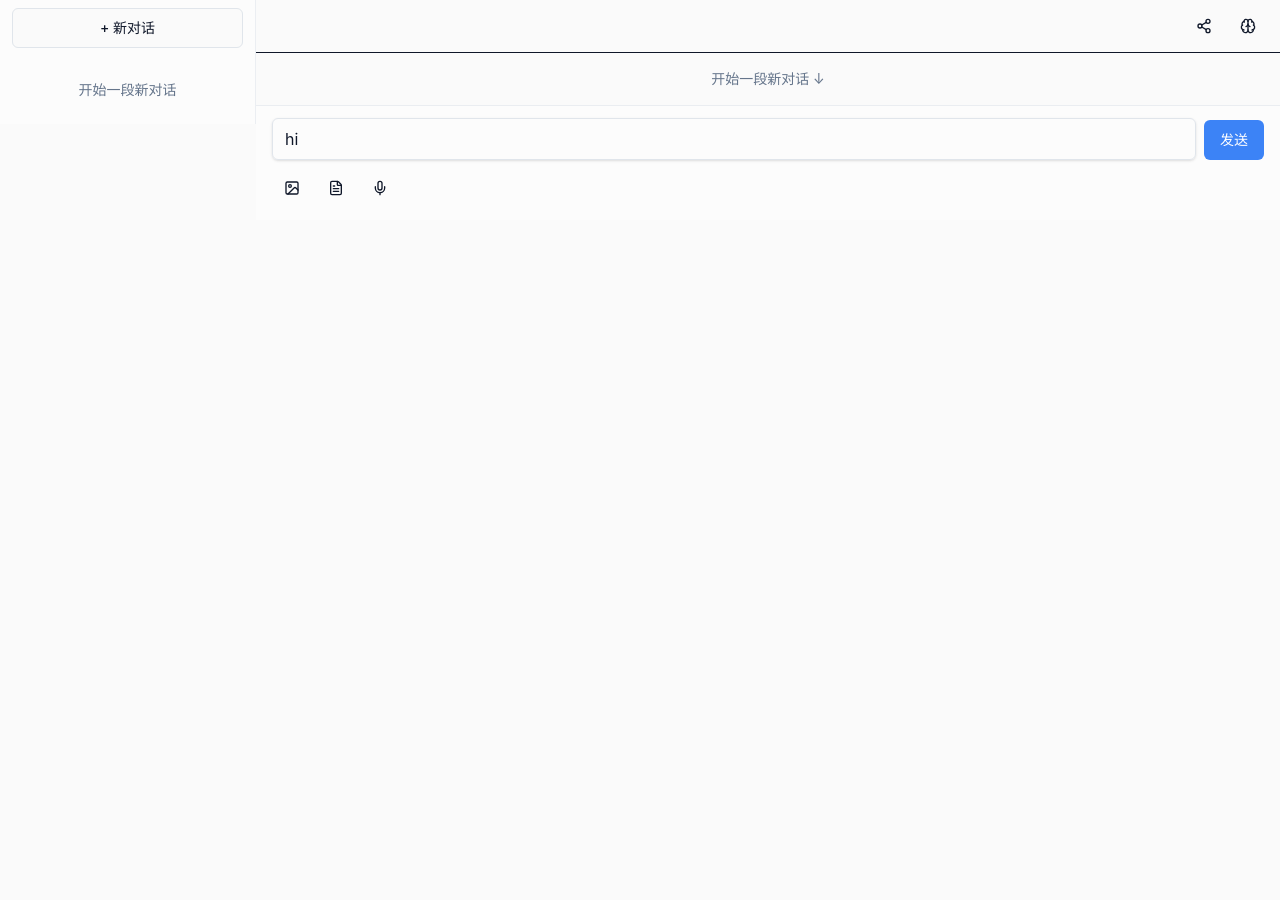
Test: ChatShell › 记忆与分享 › 渲染 Brain 图标按钮 + 点击弹 MemoryManagementDialog
Click the button with test id "memory-management-button".
click(1248, 26)  # box [1228,6,1268,46]
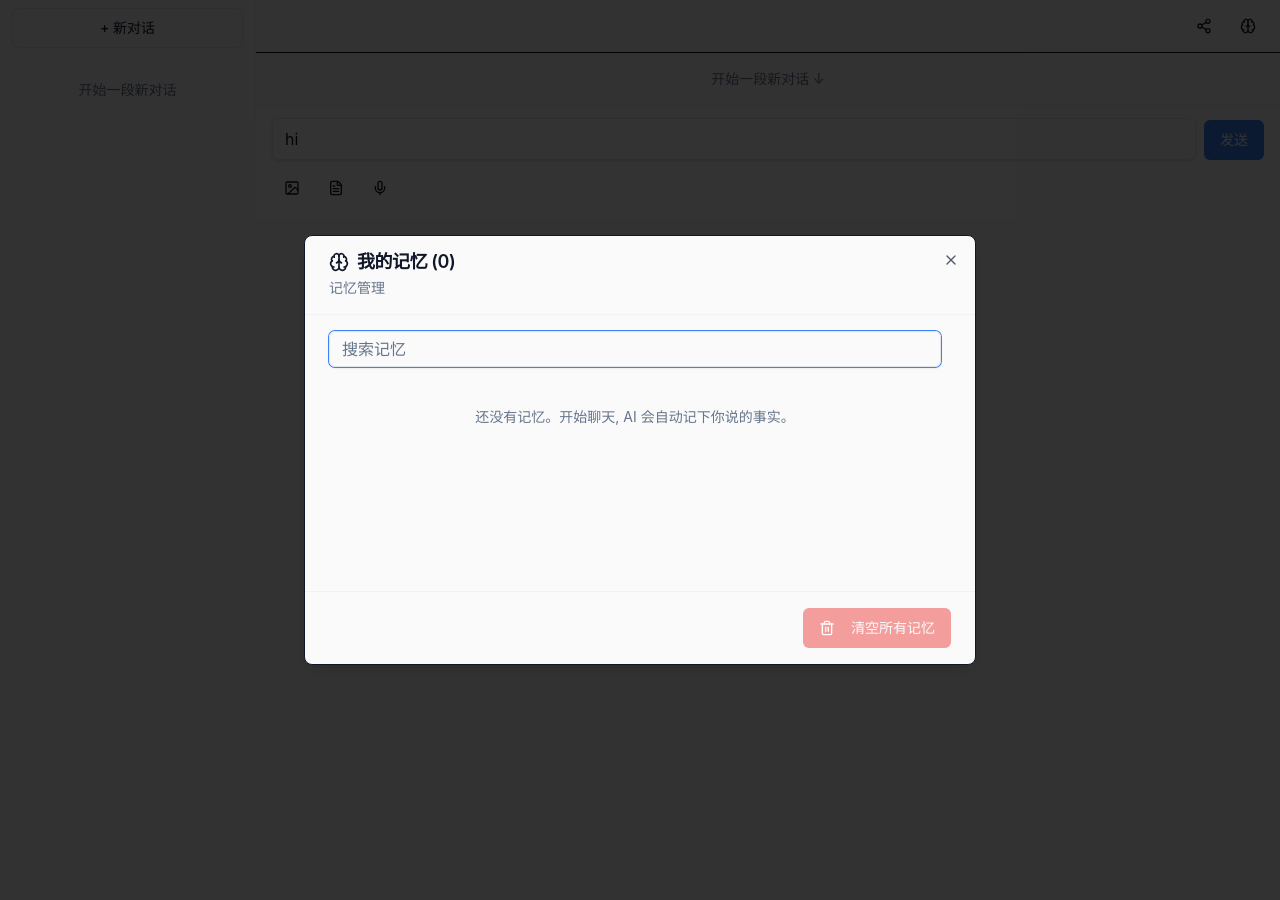
Expected: the heading "我的记忆 (0)" is shown, [329,251,455,272]
